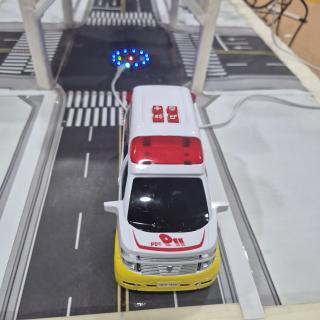Ambulance: (104, 85, 229, 291)
